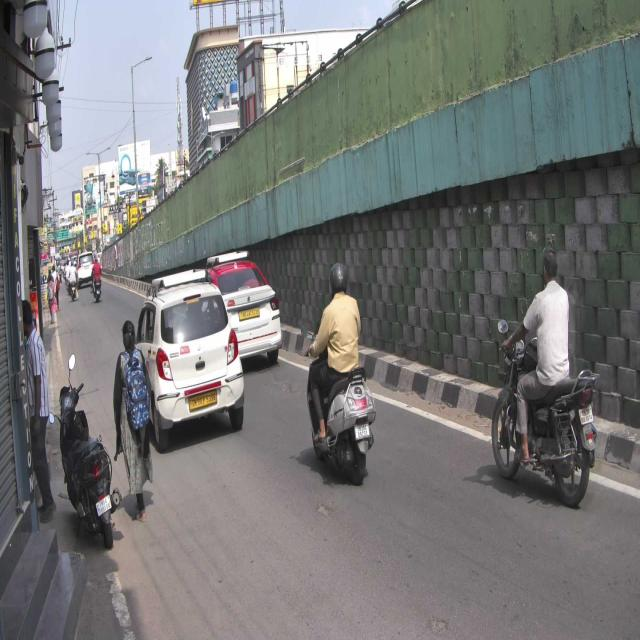single_rider: (492, 247, 598, 507), (304, 261, 376, 488)
